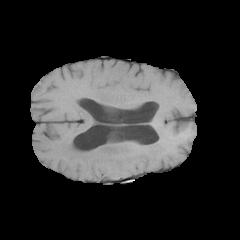glioma: (53, 116, 167, 173)
